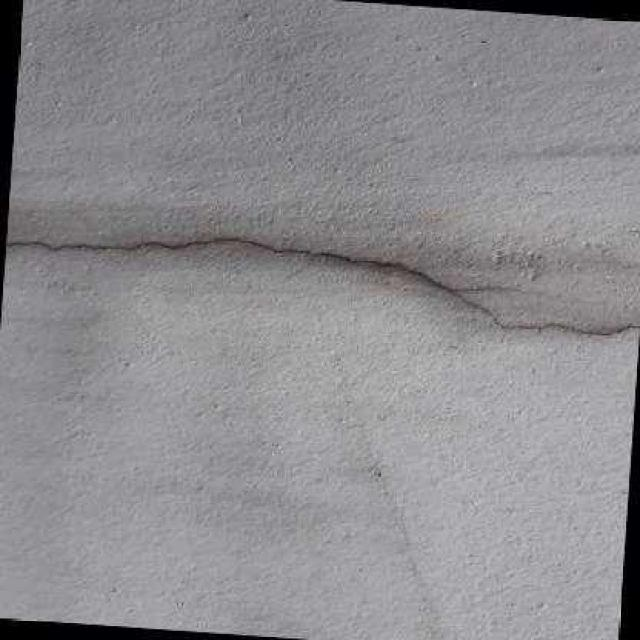D00: (4, 234, 640, 338)
